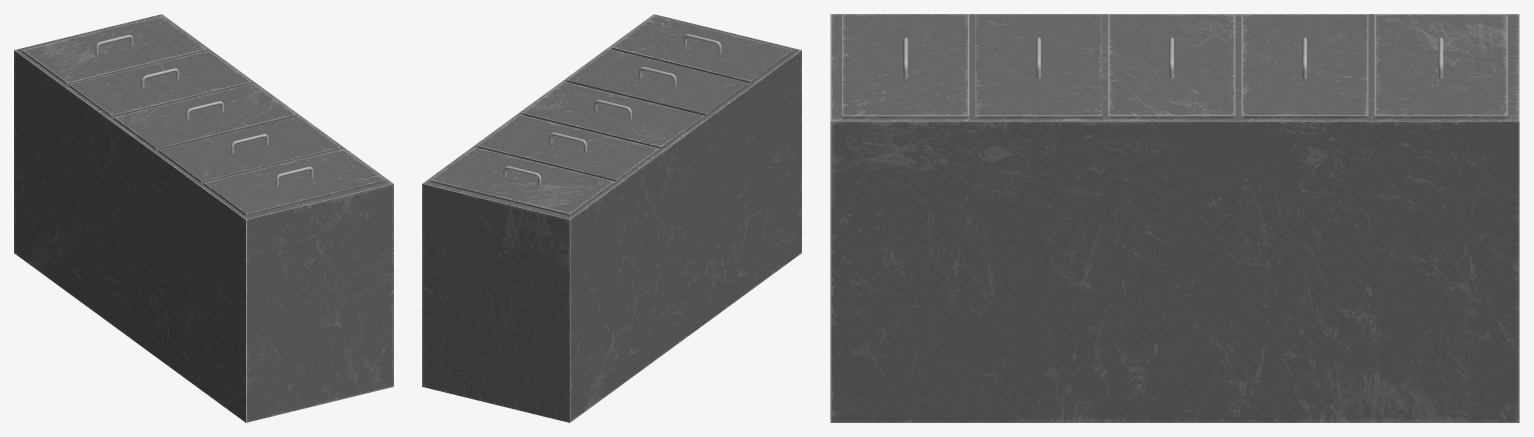
File: Filing Cabinet.fbx
3 views of the same model, side by side, from view 1: azimuth 30°, elevation 25°; view 2: azimuth 150°, elevation 25°; view 3: azimuth 270°, elevation 25° (orthographic). The views are drawn at different scales.
Visible parts, largest first — view 1: Mesh_4; view 2: Mesh_4; view 3: Mesh_4.
Boxes of the visible parts, bbox=[...] form: Mesh_4: bbox=[14, 14, 393, 422]; Mesh_4: bbox=[422, 14, 801, 422]; Mesh_4: bbox=[830, 14, 1519, 422].
Bounding box in the file's own units: 223 × 311 × 605.
